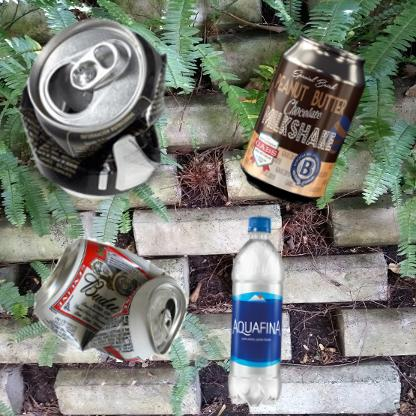botella: (213, 213, 303, 412)
lata: (213, 10, 416, 272), (10, 10, 183, 213), (10, 213, 219, 373)
